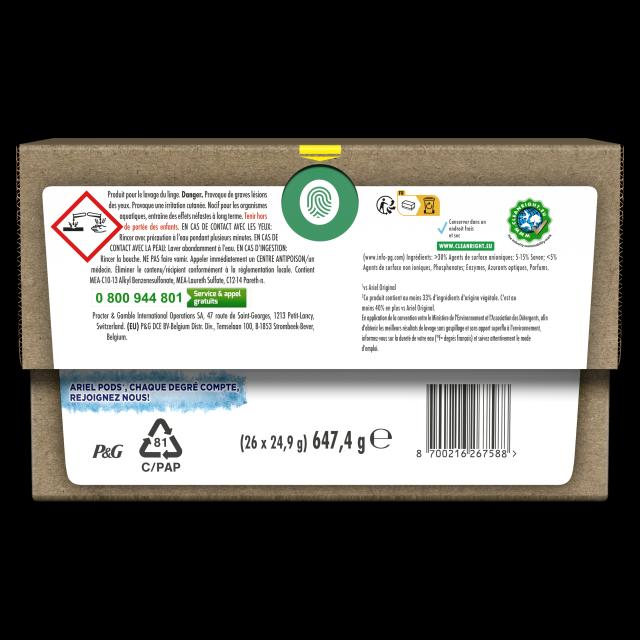GHS_Symbol_CORROSION: (51, 190, 123, 262)
